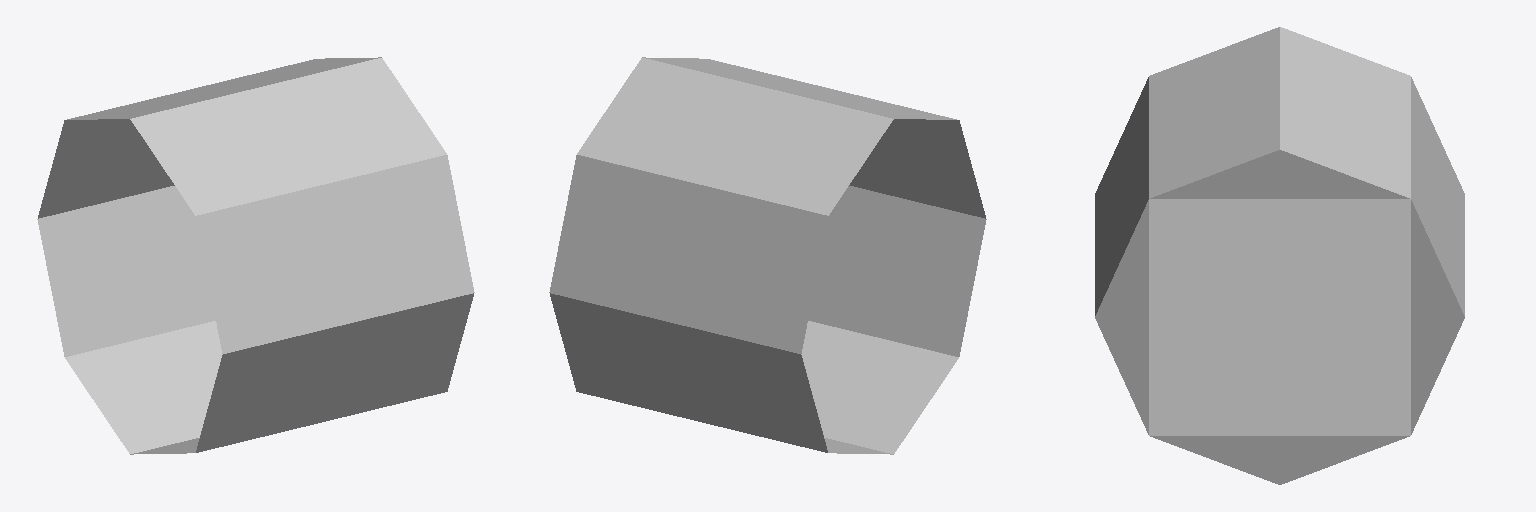
File: WheelRearL.obj
The picture shows the model from 3 angles: view 1: azimuth 30°, elevation 25°; view 2: azimuth 150°, elevation 25°; view 3: azimuth 270°, elevation 25°; orthographic projection.
Parts seen in each view (by area): view 1: WheelRearL; view 2: WheelRearL; view 3: WheelRearL.
Part boxes in pixels (left/top/right/bottom): WheelRearL: left=37, top=57, right=474, bottom=454; WheelRearL: left=549, top=57, right=986, bottom=454; WheelRearL: left=1095, top=27, right=1464, bottom=484.
Size of the model in its own units: 0.88 by 1.12 by 1.12.